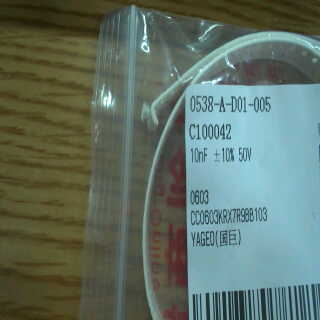10nF: (186, 144, 213, 167)
